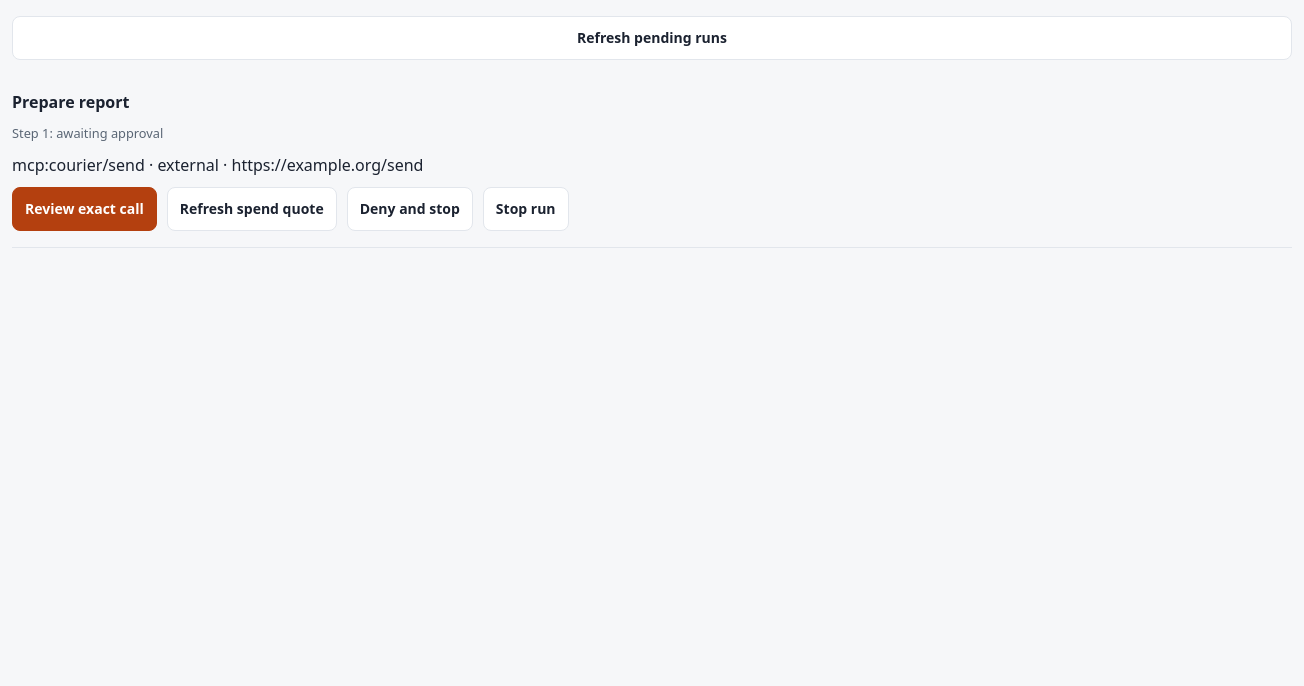
Test: durable workflow approval inbox › loads persisted pending work and requires exact review before one-time approval
The image size is (1304, 686).
Check: the text "Prepare report" is shown, box [12,91,130,113]
Check: the button "Approve this call and resume" is not shown
Click the button "Review exact call". click: x=84, y=209
box: [12,187,157,231]
(page scrolled)
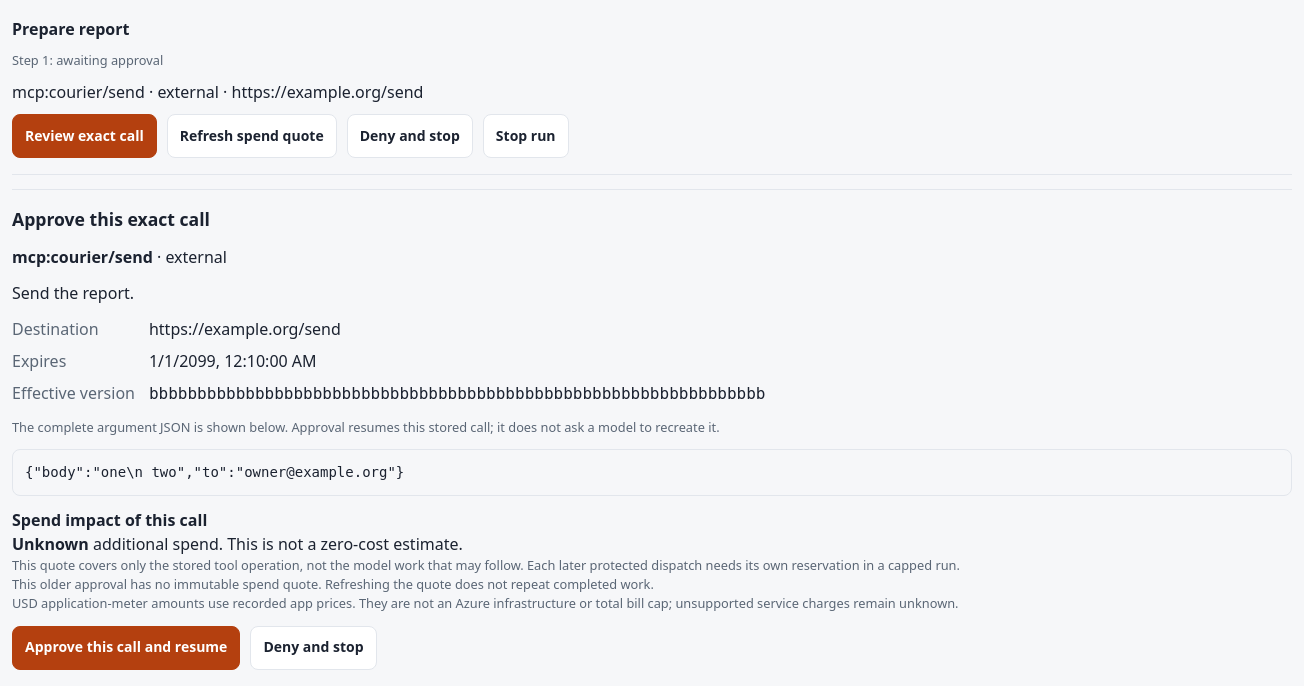
Check: the text "{\"body\":\"one\\n two\",\"to\":\"owner@example.org\"}" is shown, box [12,449,1292,496]
Check: the text "complete argument JSON" is shown, box [12,418,720,436]
Click the button "Approve this call and resume". click: x=126, y=648
box: [12,626,240,670]
(page scrolled)
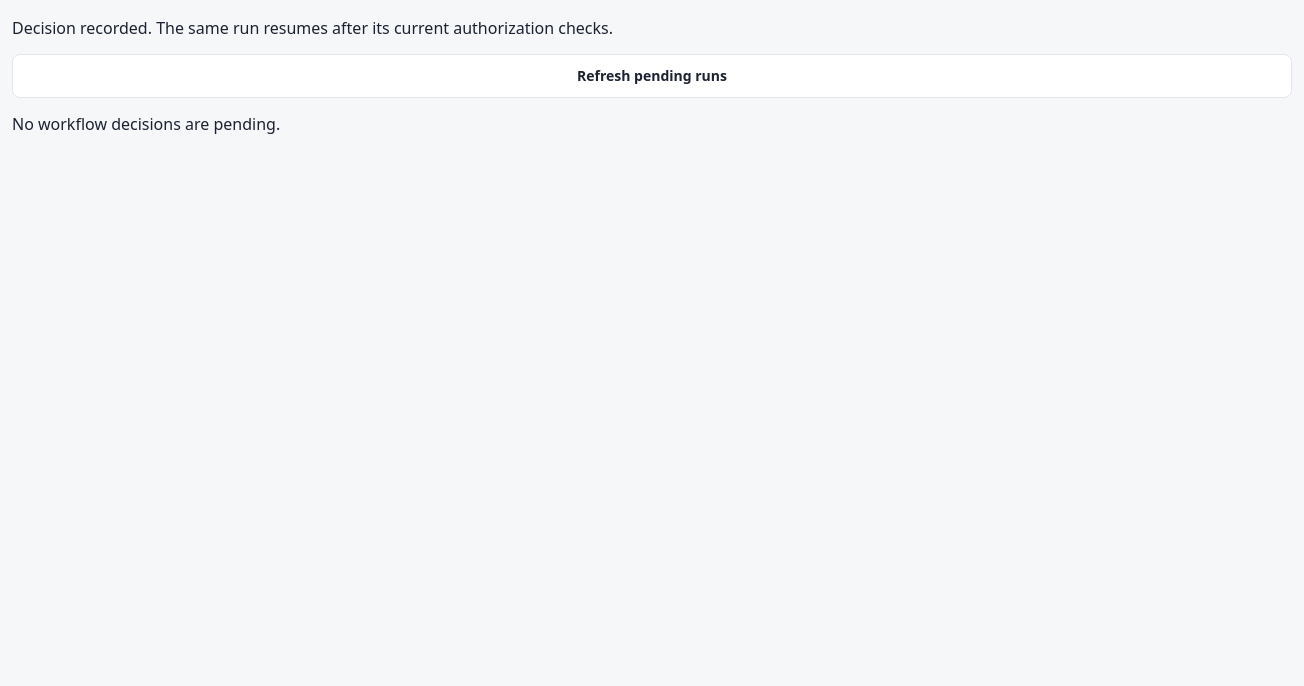
Check: the text "Decision recorded" is shown, box [12,17,613,39]
